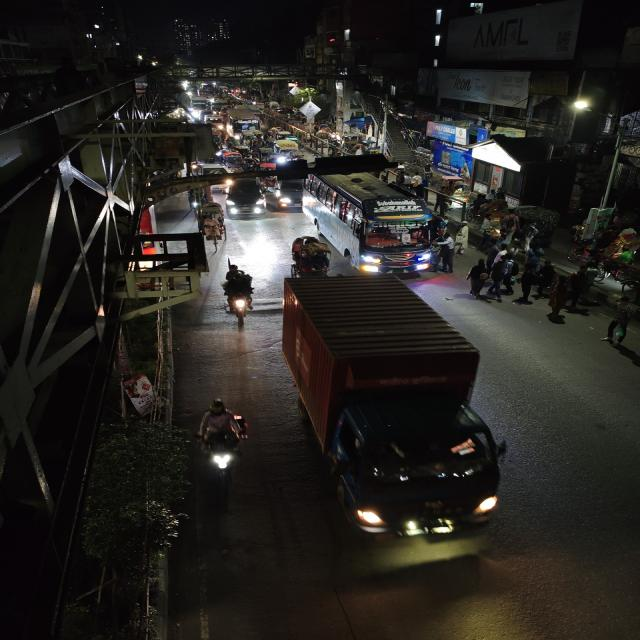bus: (302, 170, 440, 272), (226, 112, 260, 136)
car: (257, 172, 306, 211), (222, 179, 268, 220)
human_hauler: (275, 140, 299, 154)
motorcycle: (192, 394, 255, 496), (218, 261, 256, 327)
pedestrian: (562, 267, 595, 315), (601, 309, 637, 349), (545, 275, 574, 316), (481, 258, 508, 302), (515, 264, 541, 304), (534, 260, 558, 297), (466, 260, 488, 298), (500, 256, 518, 294), (436, 243, 457, 274), (450, 242, 468, 271), (455, 241, 466, 257)
rickshaw: (288, 235, 335, 277), (193, 203, 228, 239), (220, 150, 252, 174)
truck: (274, 276, 517, 545)
